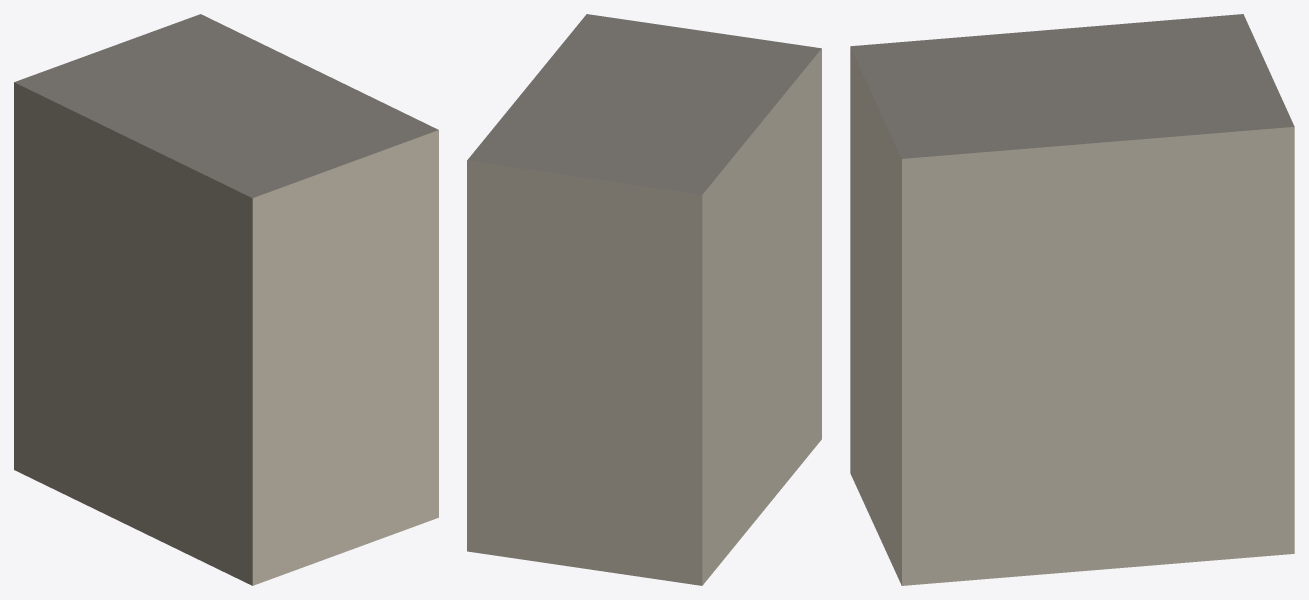
3 renders of one model, left to right at view 1: azimuth 30°, elevation 25°; view 2: azimuth 150°, elevation 25°; view 3: azimuth 270°, elevation 25°, orthographic. The views are drawn at different scales.
Visible parts, largest first — view 1: HP-w378107118; view 2: HP-w378107118; view 3: HP-w378107118.
Boxes of the visible parts, x1=… form: HP-w378107118: x1=14, y1=14, x2=438, y2=585; HP-w378107118: x1=467, y1=14, x2=821, y2=585; HP-w378107118: x1=850, y1=14, x2=1294, y2=585.
Size of the model in its own units: 10.92 by 15 by 14.15.
